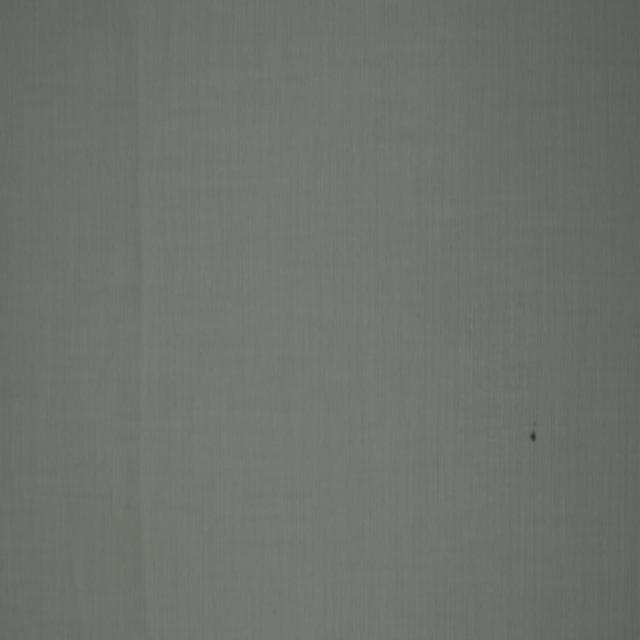dirty: (530, 428, 538, 442)
